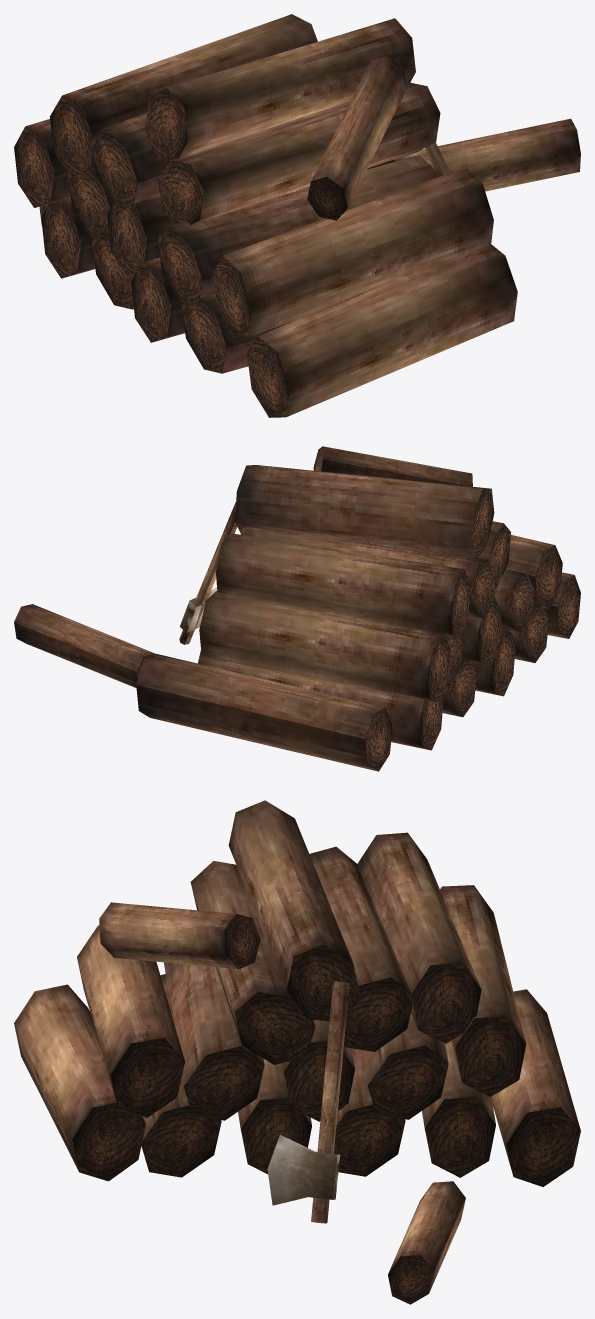
Rendered from wood101.obj.
The picture shows the model from 3 angles, top to bottom: view 1: azimuth 30°, elevation 25°; view 2: azimuth 150°, elevation 25°; view 3: azimuth 270°, elevation 25°; orthographic projection. The views are drawn at different scales.
Visible parts, largest first — view 1: wood101; view 2: wood101; view 3: wood101.
Part boxes in pixels (x1=…): wood101: x1=14, y1=14, x2=580, y2=417; wood101: x1=14, y1=446, x2=580, y2=771; wood101: x1=14, y1=800, x2=580, y2=1304.
Bounding box in the file's own units: 21.57 × 10.19 × 19.35.
